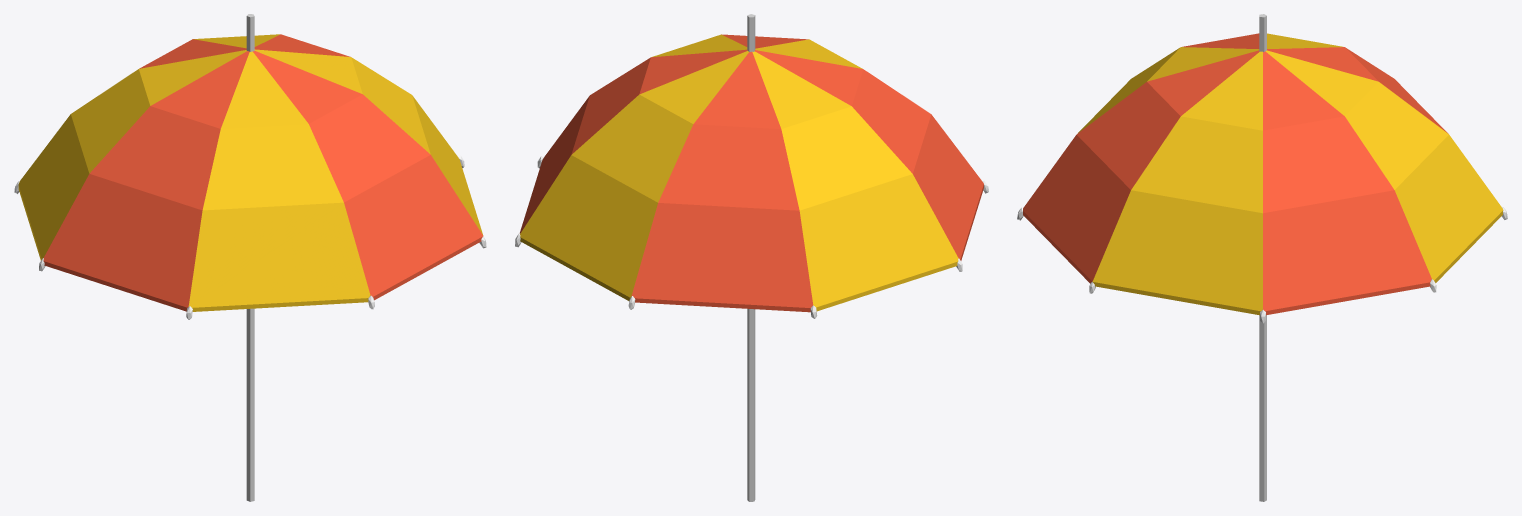
The model's file is Umbrella_01.glb.
3 renders of one model, left to right at view 1: azimuth 30°, elevation 25°; view 2: azimuth 150°, elevation 25°; view 3: azimuth 270°, elevation 25°, orthographic.
Parts seen in each view (by area): view 1: Umbrella_01; view 2: Umbrella_01; view 3: Umbrella_01.
Boxes of the visible parts, x1=… form: Umbrella_01: x1=14, y1=14, x2=486, y2=501; Umbrella_01: x1=515, y1=14, x2=988, y2=501; Umbrella_01: x1=1017, y1=14, x2=1507, y2=501.
Size of what is drawn, in the model's own units: 3.06 by 3.34 by 3.06.
1 material, 1 textured.
